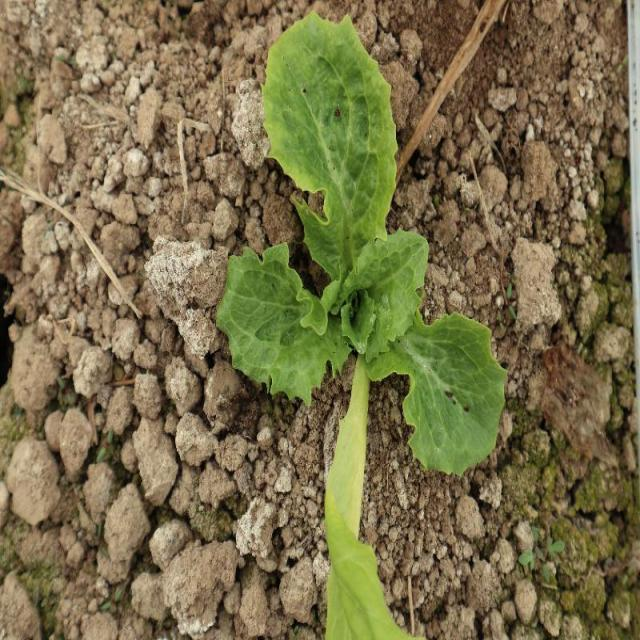crop: (211, 15, 507, 481)
